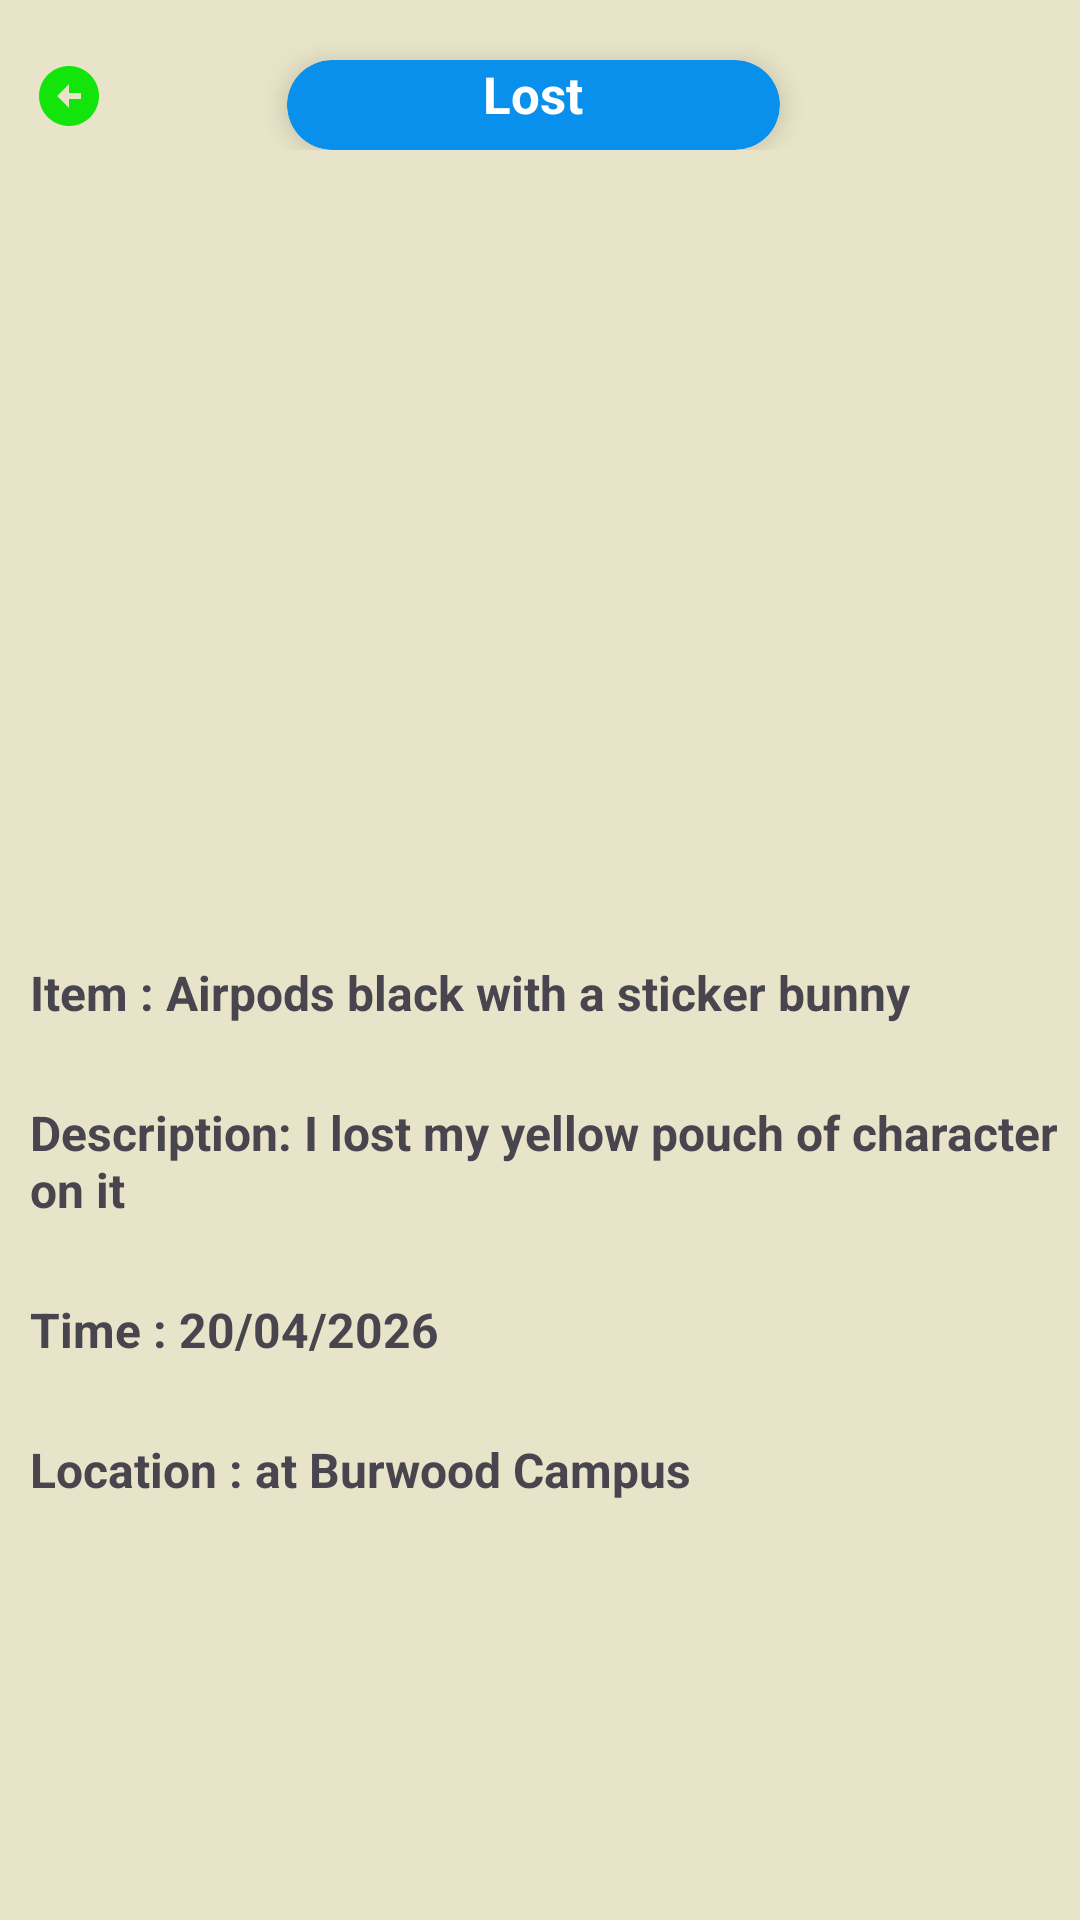

Named icons in this screenshot (1080 x 1920) and their bounding boxes, (x1, y1, x2, y2):
arrow circle left: (39, 66, 99, 126)
